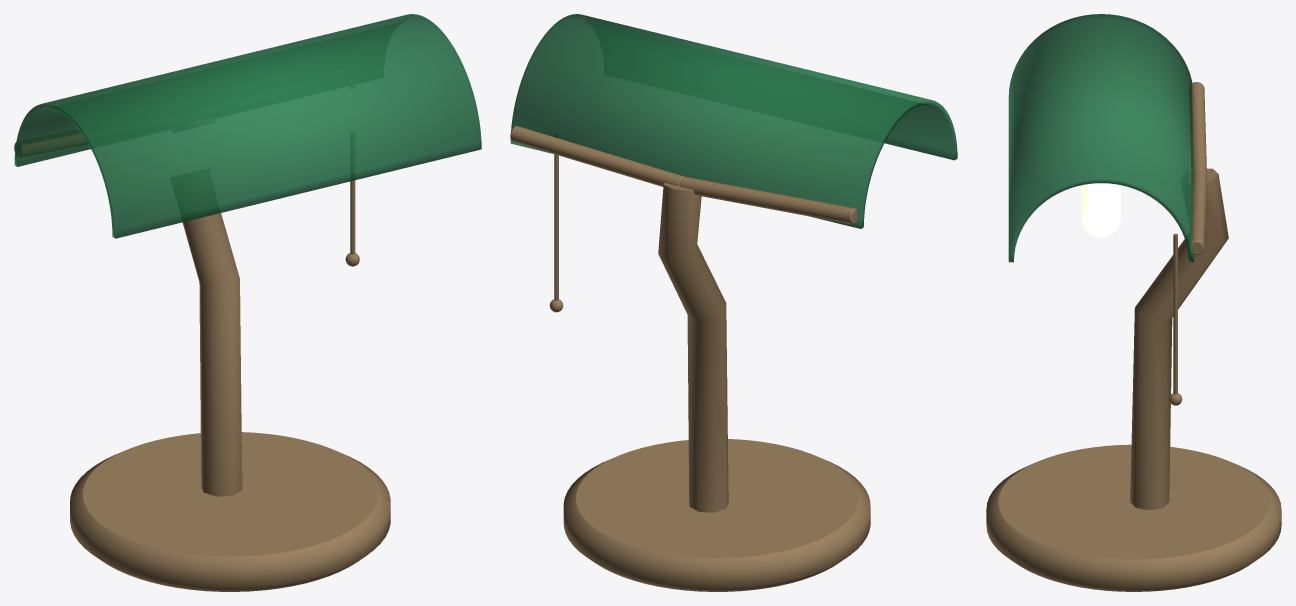
Rendered from crime-banker-lamp.glb.
The picture shows the model from 3 angles, left to right: view 1: azimuth 30°, elevation 25°; view 2: azimuth 150°, elevation 25°; view 3: azimuth 270°, elevation 25°; orthographic projection. The views are drawn at different scales.
Visible parts, largest first — view 1: Banker | open green glass canopy, Lamp | weighted circular base, Banker | cast curved stem, Banker | shade support; view 2: Banker | open green glass canopy, Lamp | weighted circular base, Banker | cast curved stem, Banker | shade support, Banker | shade support.001, Banker | pull chain; view 3: Lamp | weighted circular base, Banker | open green glass canopy, Banker | cast curved stem, Banker | tubular lamp, Banker | shade support, Banker | shade support.001, Banker | pull chain.
Part boxes in pixels (box(x1,y1,x2,y2)): Banker | open green glass canopy: box(14, 14, 481, 238); Lamp | weighted circular base: box(70, 432, 390, 591); Banker | cast curved stem: box(182, 213, 242, 496); Banker | shade support: box(14, 134, 87, 157); Banker | open green glass canopy: box(510, 14, 957, 228); Lamp | weighted circular base: box(563, 439, 870, 591); Banker | cast curved stem: box(658, 183, 728, 512); Banker | shade support: box(680, 177, 858, 224); Banker | shade support.001: box(510, 126, 684, 186); Banker | pull chain: box(554, 154, 558, 300); Lamp | weighted circular base: box(986, 444, 1281, 591); Banker | open green glass canopy: box(1008, 14, 1193, 262); Banker | cast curved stem: box(1130, 168, 1228, 510); Banker | tubular lamp: box(1081, 183, 1120, 237); Banker | shade support: box(1189, 82, 1206, 174); Banker | shade support.001: box(1189, 170, 1206, 254); Banker | pull chain: box(1173, 233, 1177, 394).
Size of the model in its own units: 0.298 by 0.37 by 0.226.
Materials: 3 (3 with a texture image).
